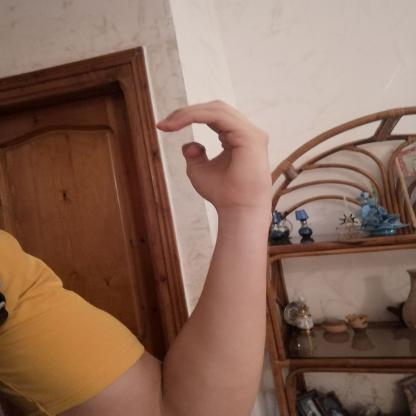JEEM: (142, 92, 287, 216)
